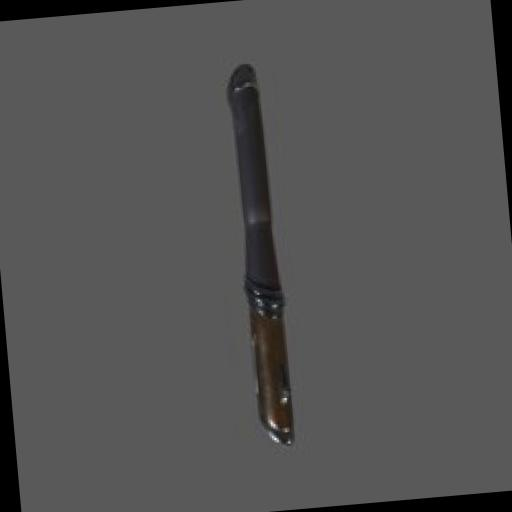lightsaber: (210, 56, 319, 459)
